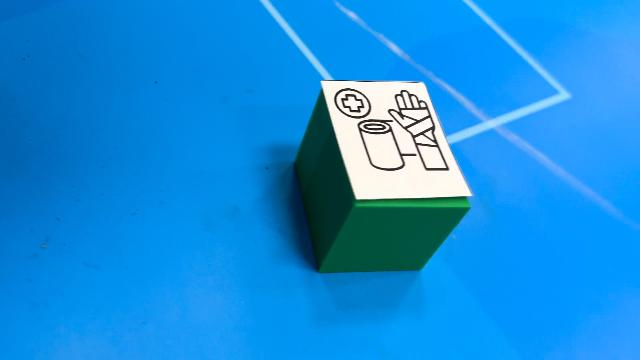bandage: (294, 80, 474, 272)
